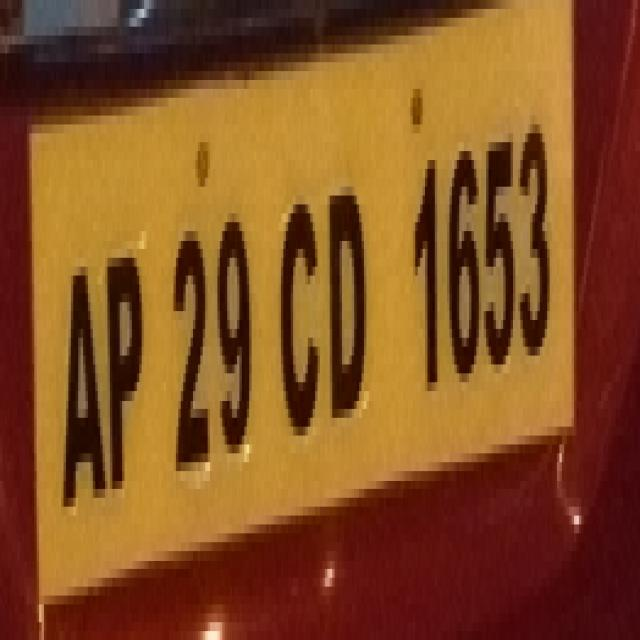1: (407, 172, 444, 414)
3: (519, 110, 556, 360)
5: (481, 122, 519, 368)
6: (446, 140, 484, 380)
9: (212, 203, 252, 465)
A: (51, 256, 108, 528)
C: (278, 185, 323, 446)
D: (325, 168, 371, 438)
P: (103, 236, 147, 496)
